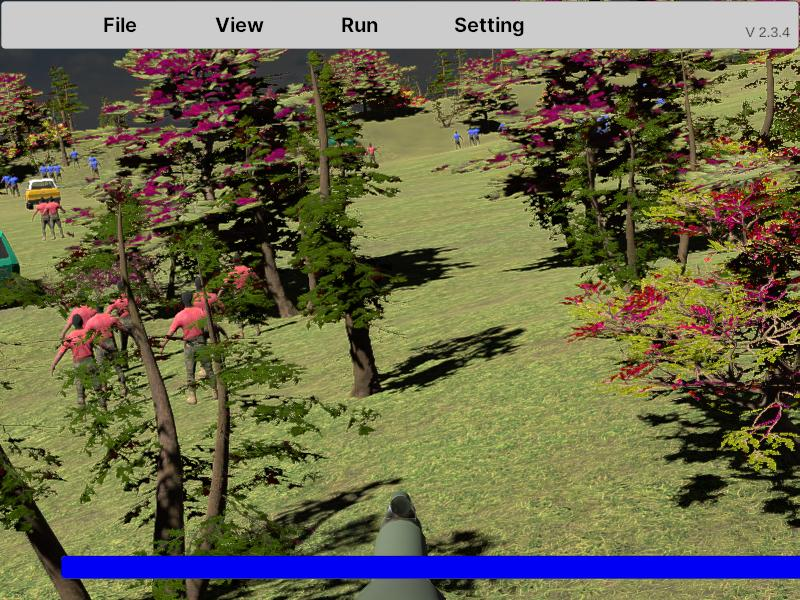Human: (50, 313, 118, 433), (161, 289, 218, 405), (77, 304, 139, 402), (33, 198, 55, 241), (46, 195, 66, 239)
car: (0, 219, 21, 314), (26, 177, 61, 210)
